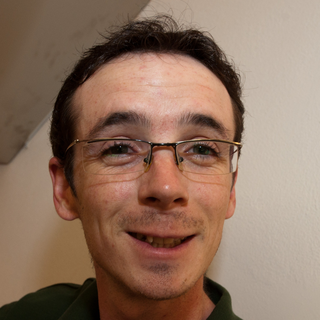eye: (90, 132, 149, 169), (169, 132, 227, 167)
